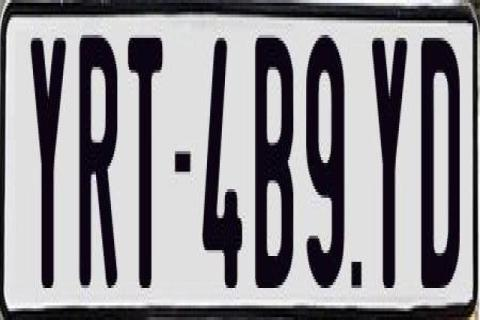0: (200, 29, 240, 297), (306, 32, 346, 300)
B: (255, 32, 294, 294)
D: (419, 29, 456, 294)
R: (80, 35, 118, 294)
T: (128, 29, 166, 297)
Y: (369, 38, 409, 294), (28, 35, 66, 288)
